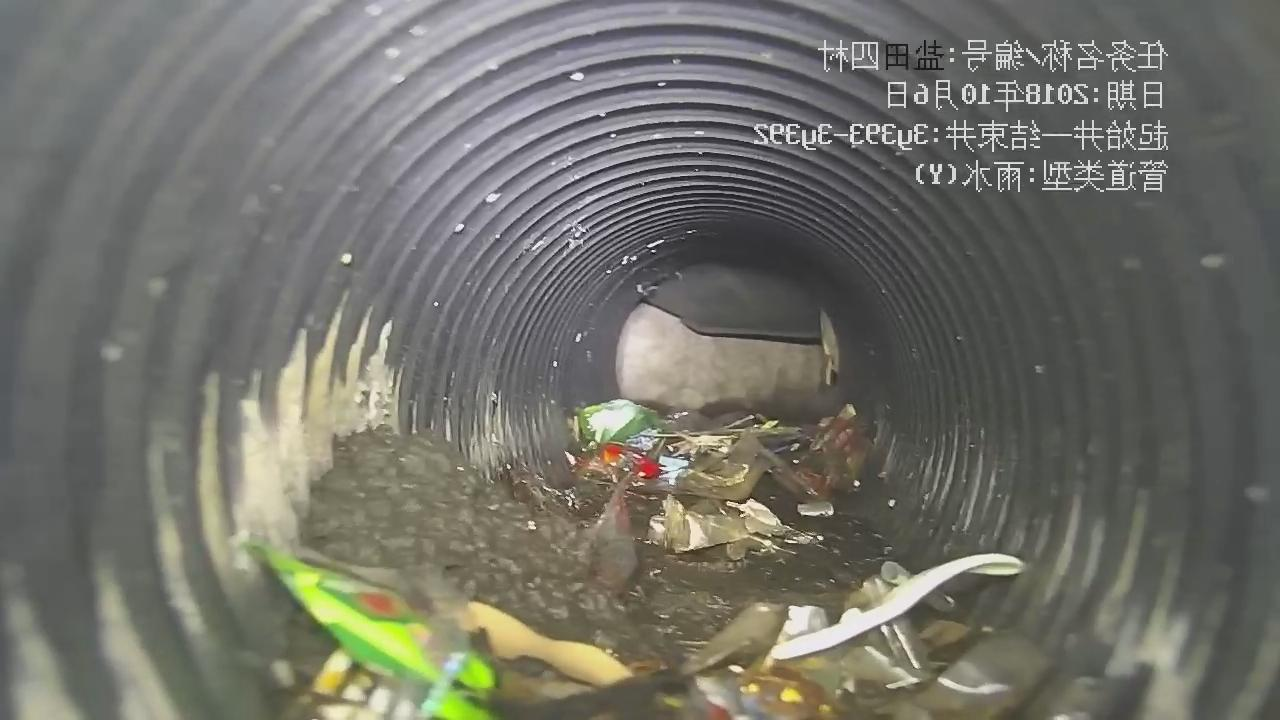CJ: (265, 400, 1101, 719)
YWCR: (641, 262, 822, 344)
